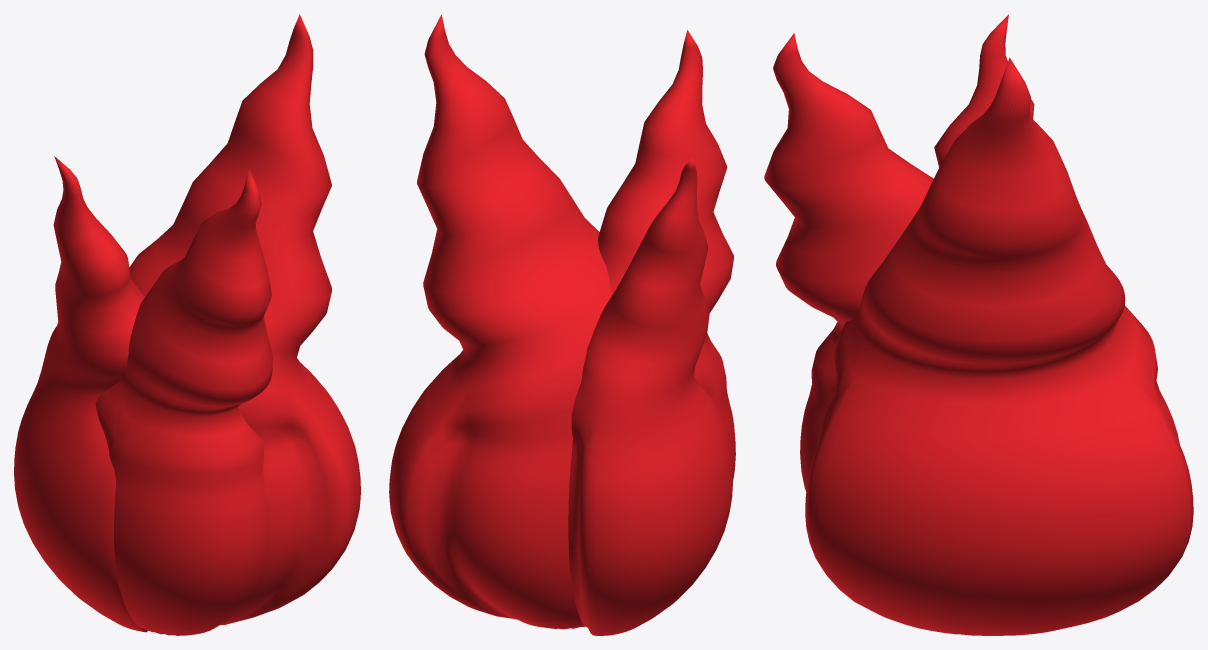
The model's file is fire.fbx.
3 renders of one model, left to right at view 1: azimuth 30°, elevation 25°; view 2: azimuth 150°, elevation 25°; view 3: azimuth 270°, elevation 25°, orthographic. The views are drawn at different scales.
Visible parts, largest first — view 1: Sphere001; view 2: Sphere001; view 3: Sphere001.
Boxes of the visible parts, <box> form: Sphere001: <box>14,14,360,635</box>; Sphere001: <box>389,14,735,635</box>; Sphere001: <box>764,14,1193,635</box>.
Size of the model in its own units: 14.17 by 26.61 by 16.42.
